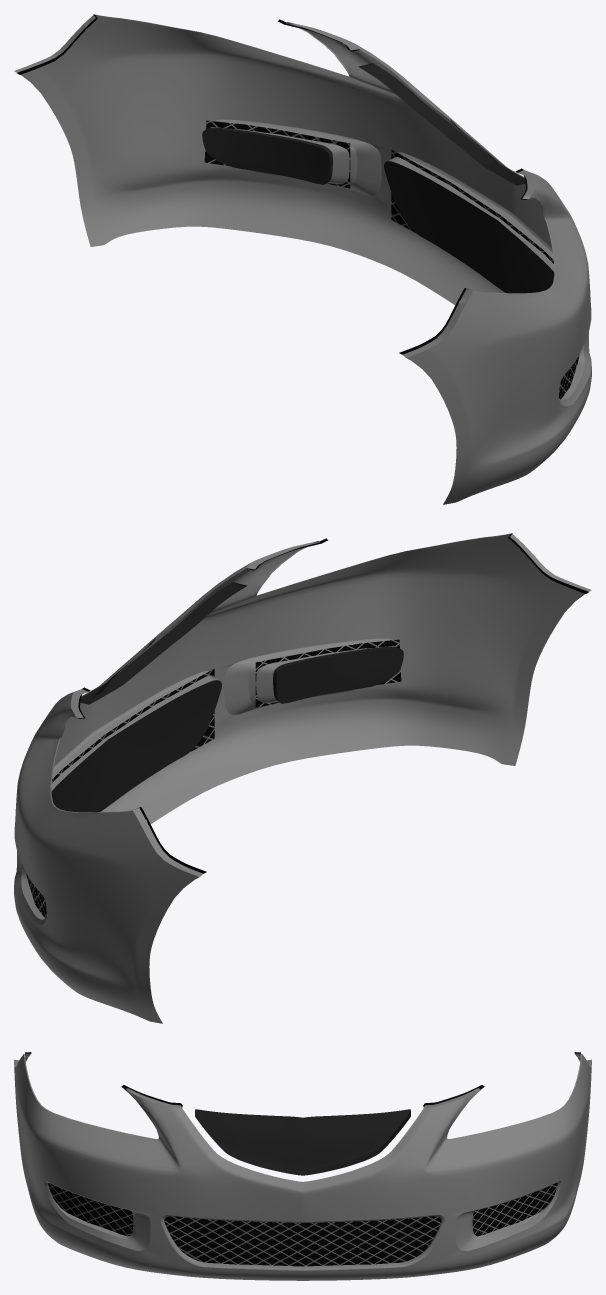
The picture shows the model from 3 angles, top to bottom: view 1: azimuth 30°, elevation 25°; view 2: azimuth 150°, elevation 25°; view 3: azimuth 270°, elevation 25°; orthographic projection. The views are drawn at different scales.
Parts seen in each view (by area): view 1: D160_021G_C_D160_021G_C_2_DaS, D160_021G_C_1_D_D160_021G_C, D160_021G_C_D160_021G_C_2_DaS_E, D160_021G_C_D160_021G_C_3_D, D160_021G_C_D160_021G_C_5_D; view 2: D160_021G_C_D160_021G_C_2_DaS, D160_021G_C_1_D_D160_021G_C, D160_021G_C_D160_021G_C_2_DaS_E, D160_021G_C_D160_021G_C_3_D, D160_021G_C_D160_021G_C_5_D; view 3: D160_021G_C_D160_021G_C_2_DaS, D160_021G_C_D160_021G_C_3_D, D160_021G_C_1_D_D160_021G_C, D160_021G_C_D160_021G_C_2_DaS_E, D160_021G_C_D160_021G_C_5_D.
Boxes of the visible parts, left/top/right/bottom form: D160_021G_C_D160_021G_C_2_DaS: left=21, top=15, right=591, bottom=504; D160_021G_C_1_D_D160_021G_C: left=202, top=63, right=554, bottom=293; D160_021G_C_D160_021G_C_2_DaS_E: left=14, top=14, right=591, bottom=406; D160_021G_C_D160_021G_C_3_D: left=204, top=120, right=579, bottom=399; D160_021G_C_D160_021G_C_5_D: left=17, top=14, right=527, bottom=354; D160_021G_C_D160_021G_C_2_DaS: left=14, top=534, right=584, bottom=1023; D160_021G_C_1_D_D160_021G_C: left=51, top=582, right=403, bottom=812; D160_021G_C_D160_021G_C_2_DaS_E: left=14, top=533, right=591, bottom=925; D160_021G_C_D160_021G_C_3_D: left=26, top=639, right=401, bottom=918; D160_021G_C_D160_021G_C_5_D: left=78, top=533, right=588, bottom=873; D160_021G_C_D160_021G_C_2_DaS: left=14, top=1054, right=591, bottom=1280; D160_021G_C_D160_021G_C_3_D: left=48, top=1183, right=557, bottom=1266; D160_021G_C_1_D_D160_021G_C: left=195, top=1109, right=410, bottom=1175; D160_021G_C_D160_021G_C_2_DaS_E: left=14, top=1053, right=591, bottom=1270; D160_021G_C_D160_021G_C_5_D: left=25, top=1052, right=580, bottom=1107.
Bounding box in the file's own units: 89.21 × 65.22 × 198.
